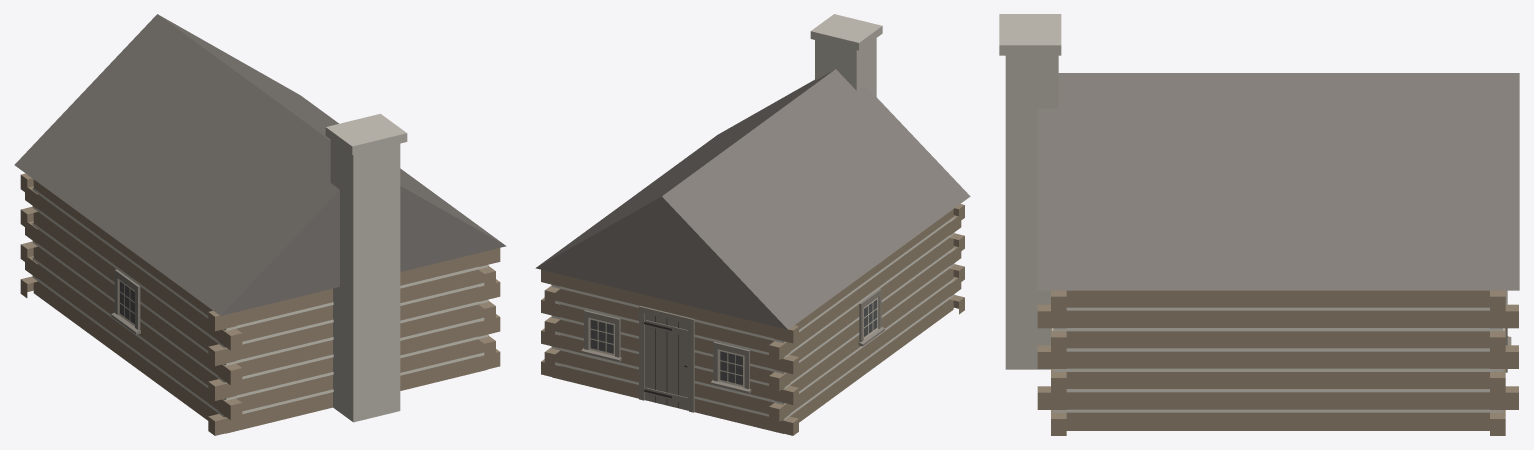
File: recon_1835_blk_south_water_lasalle_d1_04__inferred_1835.glb
3 views of the same model, side by side, from view 1: azimuth 30°, elevation 25°; view 2: azimuth 150°, elevation 25°; view 3: azimuth 270°, elevation 25° (orthographic). The views are drawn at different scales.
Parts seen in each view (by area): view 1: recon_1835_blk_south_water_lasalle_d1_04__inferred_1835; view 2: recon_1835_blk_south_water_lasalle_d1_04__inferred_1835; view 3: recon_1835_blk_south_water_lasalle_d1_04__inferred_1835.
Part boxes in pixels (box(x1,y1,x2,y2)): recon_1835_blk_south_water_lasalle_d1_04__inferred_1835: box(14, 14, 506, 435); recon_1835_blk_south_water_lasalle_d1_04__inferred_1835: box(535, 14, 970, 435); recon_1835_blk_south_water_lasalle_d1_04__inferred_1835: box(999, 14, 1519, 435).
Size of the model in its own units: 5.84 by 5.44 by 7.86.
